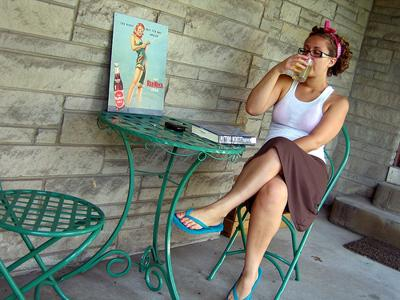person: (174, 20, 350, 300)
